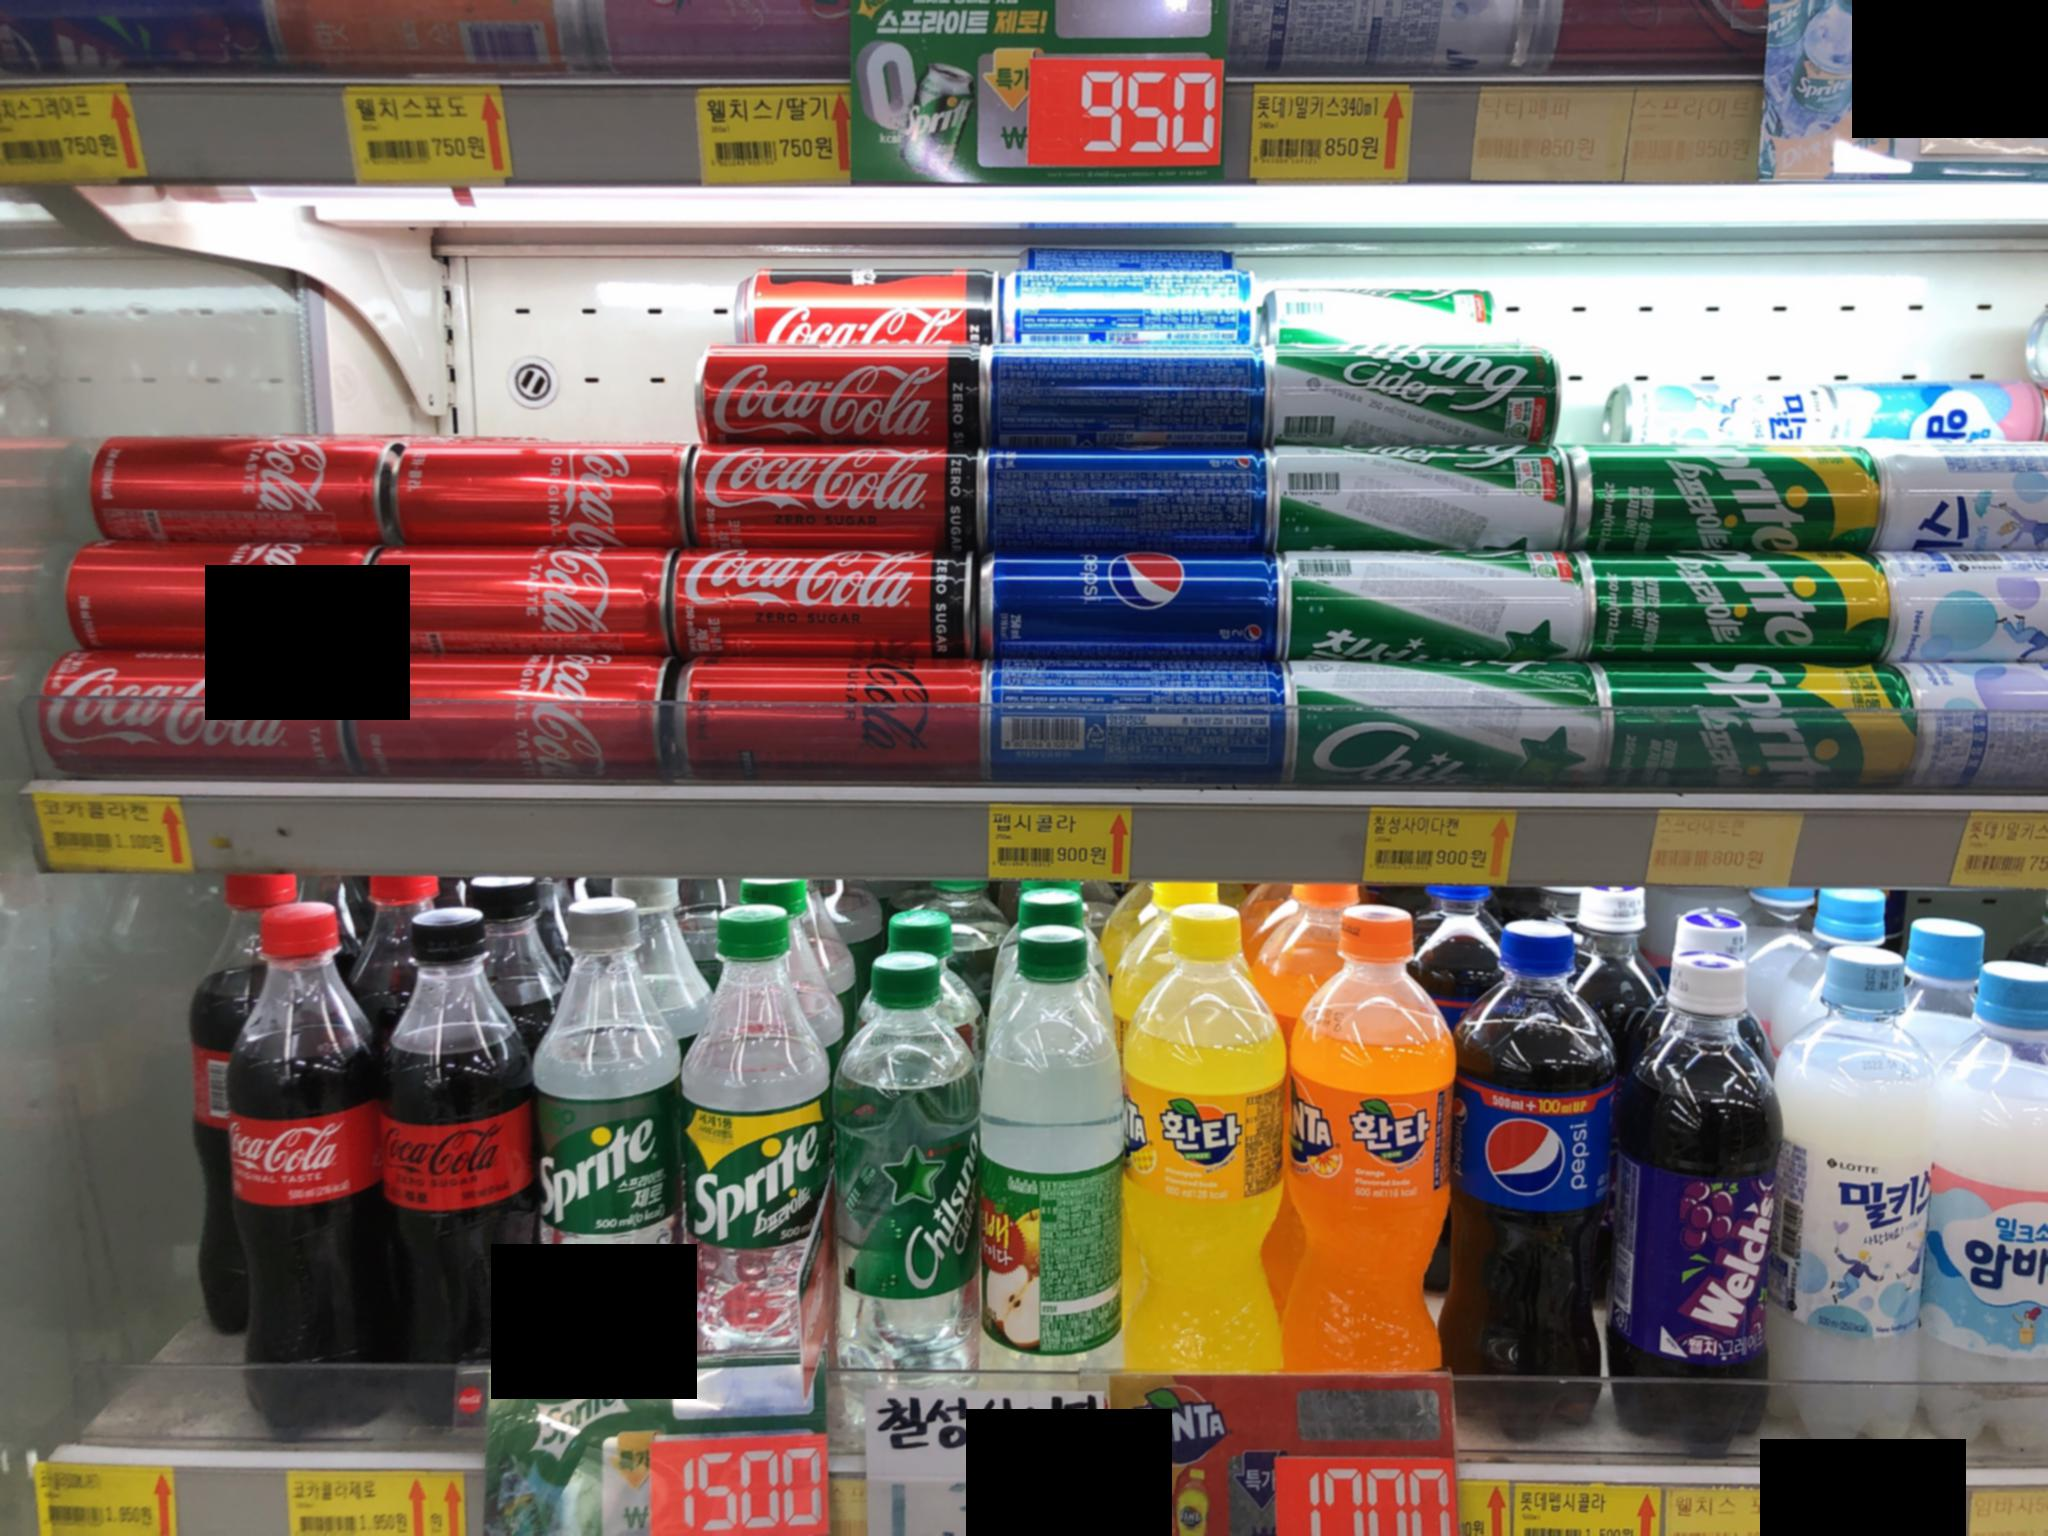cocacola_zero: (669, 526, 985, 650), (690, 429, 990, 524), (690, 345, 992, 437)
sprite_zero: (526, 895, 674, 1360)
